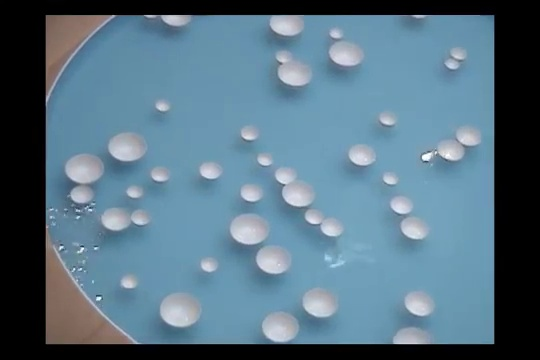bowl: (160, 292, 201, 327), (229, 213, 270, 245), (108, 132, 147, 163), (65, 153, 104, 184), (302, 287, 338, 319), (262, 311, 299, 342), (256, 245, 291, 275), (328, 41, 363, 67), (281, 181, 315, 207), (277, 62, 312, 86), (404, 290, 435, 317), (269, 15, 305, 37), (392, 326, 434, 344), (400, 216, 429, 240), (101, 208, 131, 231), (348, 144, 376, 166), (456, 125, 482, 148), (437, 140, 465, 161), (69, 185, 94, 205), (321, 218, 344, 237), (390, 196, 413, 215), (199, 161, 223, 179), (240, 184, 263, 202), (275, 167, 297, 184), (161, 14, 192, 26), (132, 209, 151, 226), (305, 208, 324, 224), (379, 110, 397, 126), (151, 167, 170, 182), (201, 257, 218, 272), (240, 126, 258, 140), (121, 274, 137, 288), (450, 47, 467, 60), (382, 172, 399, 185), (127, 185, 143, 198), (257, 153, 272, 166), (276, 50, 292, 62), (445, 58, 460, 70), (155, 100, 170, 111), (329, 28, 343, 39), (410, 13, 429, 20), (142, 14, 159, 19)
